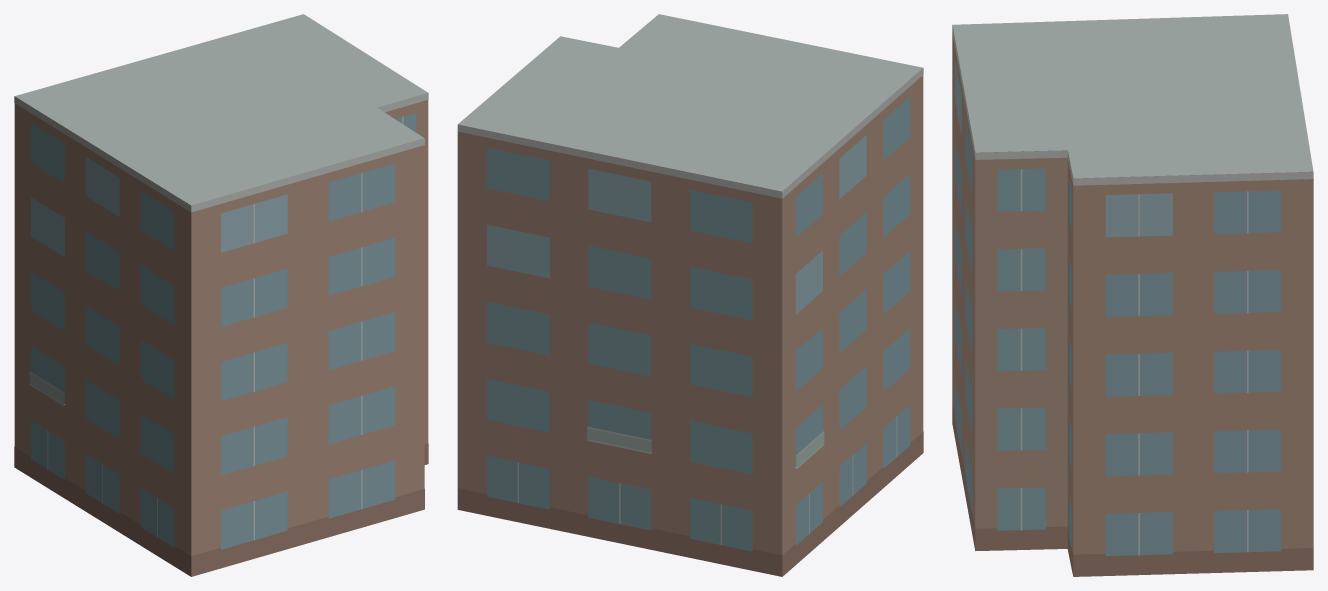
Rendered from survey-upis-32947377.glb.
3 views of the same model, side by side, from view 1: azimuth 30°, elevation 25°; view 2: azimuth 150°, elevation 25°; view 3: azimuth 270°, elevation 25° (orthographic). The views are drawn at different scales.
Parts seen in each view (by area): view 1: survey-upis-32947377.tmp; view 2: survey-upis-32947377.tmp; view 3: survey-upis-32947377.tmp.
Part boxes in pixels (x1,y1,x2,y2): survey-upis-32947377.tmp: (14, 14, 428, 576); survey-upis-32947377.tmp: (457, 14, 923, 576); survey-upis-32947377.tmp: (952, 14, 1313, 576).
Bounding box in the file's own units: 11.69 × 13.2 × 10.85.
